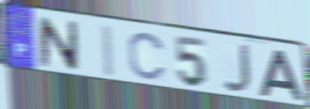5: (172, 33, 211, 89)
A: (258, 48, 306, 103)
C: (127, 31, 168, 82)
I: (100, 23, 118, 79)
J: (220, 43, 253, 94)
N: (37, 15, 80, 74)
